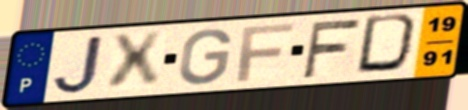D: (353, 12, 425, 76)
F: (300, 16, 364, 80), (234, 21, 296, 83)
G: (176, 27, 235, 87)
J: (50, 33, 107, 97)
X: (106, 29, 166, 94)
